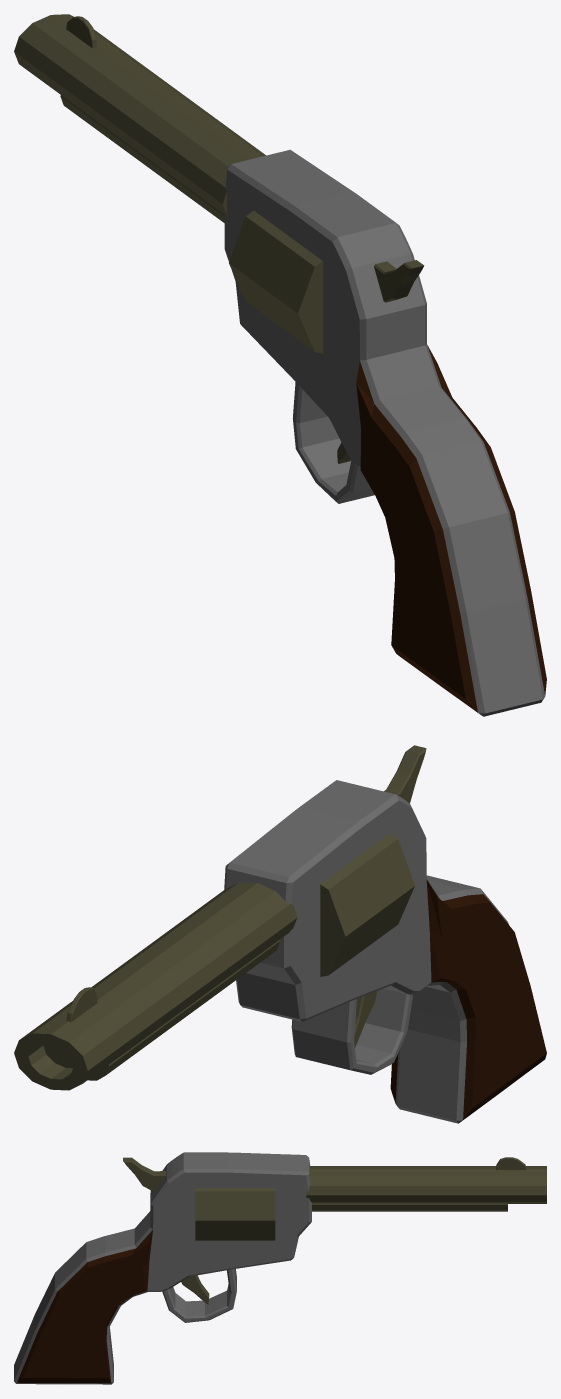
File: Wild West Gun.obj
The picture shows the model from 3 angles, top to bottom: view 1: azimuth 30°, elevation 25°; view 2: azimuth 150°, elevation 25°; view 3: azimuth 270°, elevation 25°; orthographic projection. The views are drawn at different scales.
Bounding box in the file's own units: 2.4 × 7.54 × 16.68.
